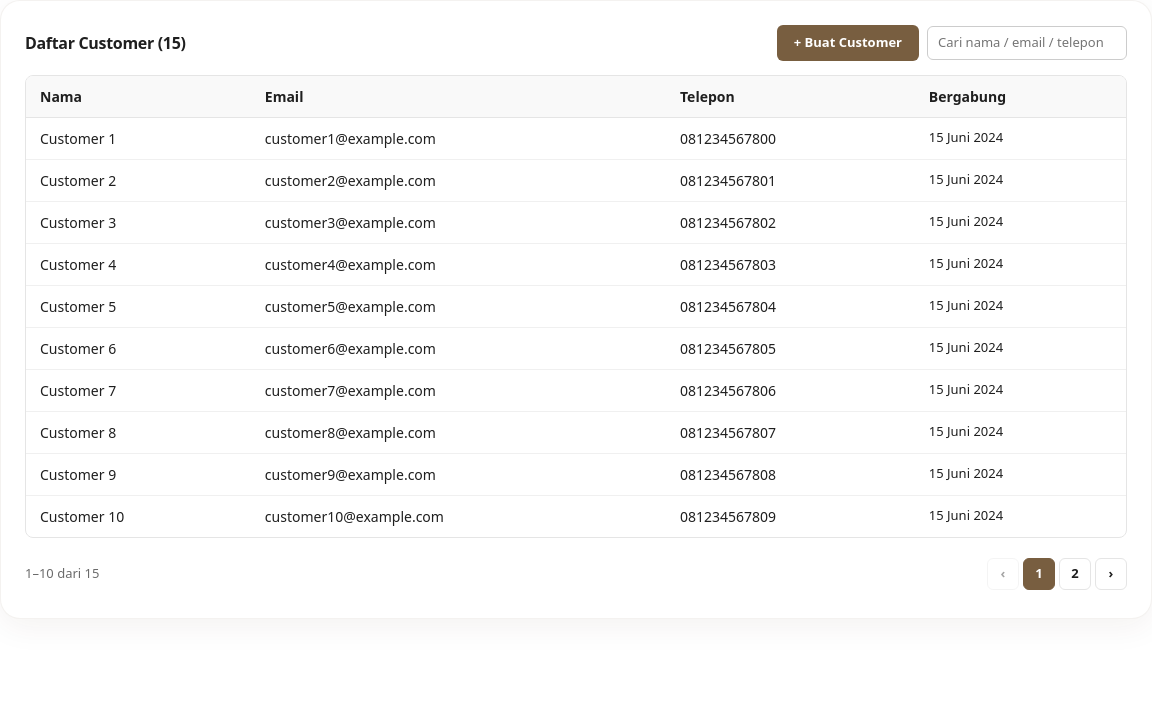
Test: Preservation 3.3 — Pagination displays correct pages › property: pagination info text is correct for page 1 with 15 customers
Expected: the text "1–10 dari 15" is shown, top-left (25, 564), bottom-right (100, 583)
// Navigate to page 2
Click the button "›" at [1111, 574], box top-left (1095, 558), bottom-right (1127, 590)
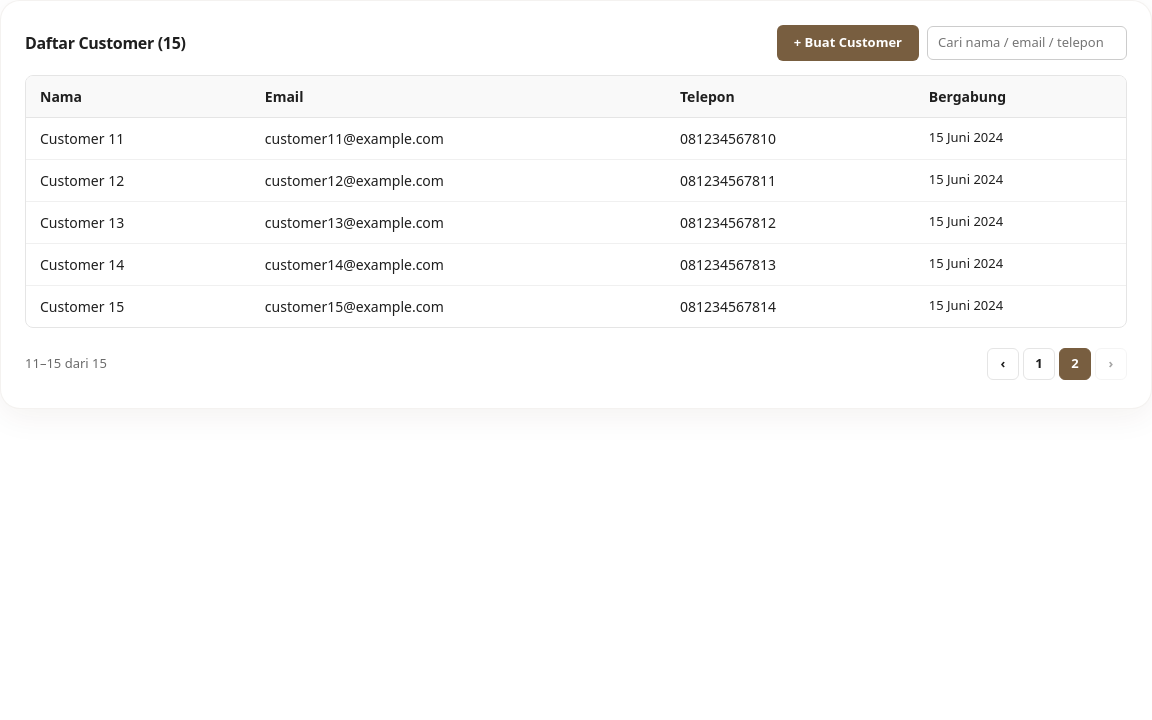
Expected: the text "11–15 dari 15" is shown, top-left (25, 354), bottom-right (107, 373)
